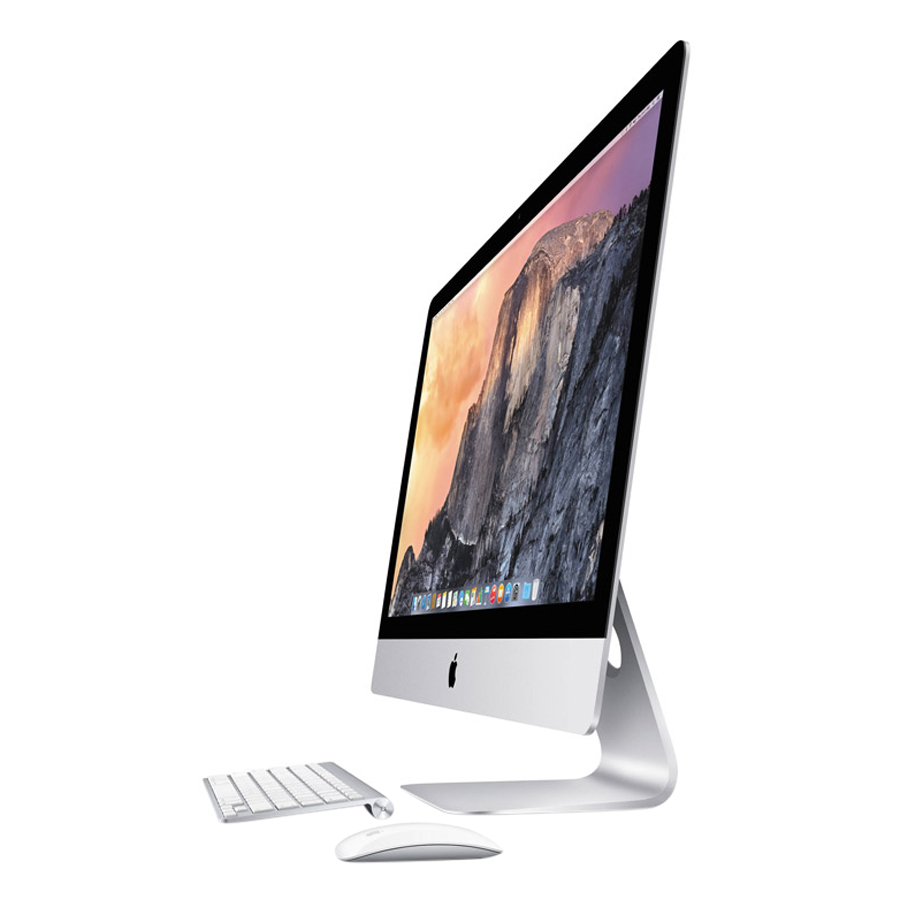Apple: (390, 620, 518, 727)
